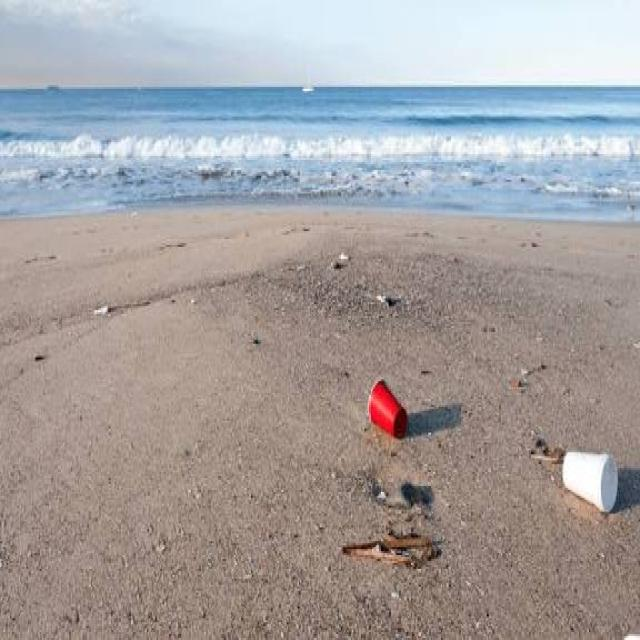plastic: (551, 434, 640, 524), (352, 357, 427, 460)
